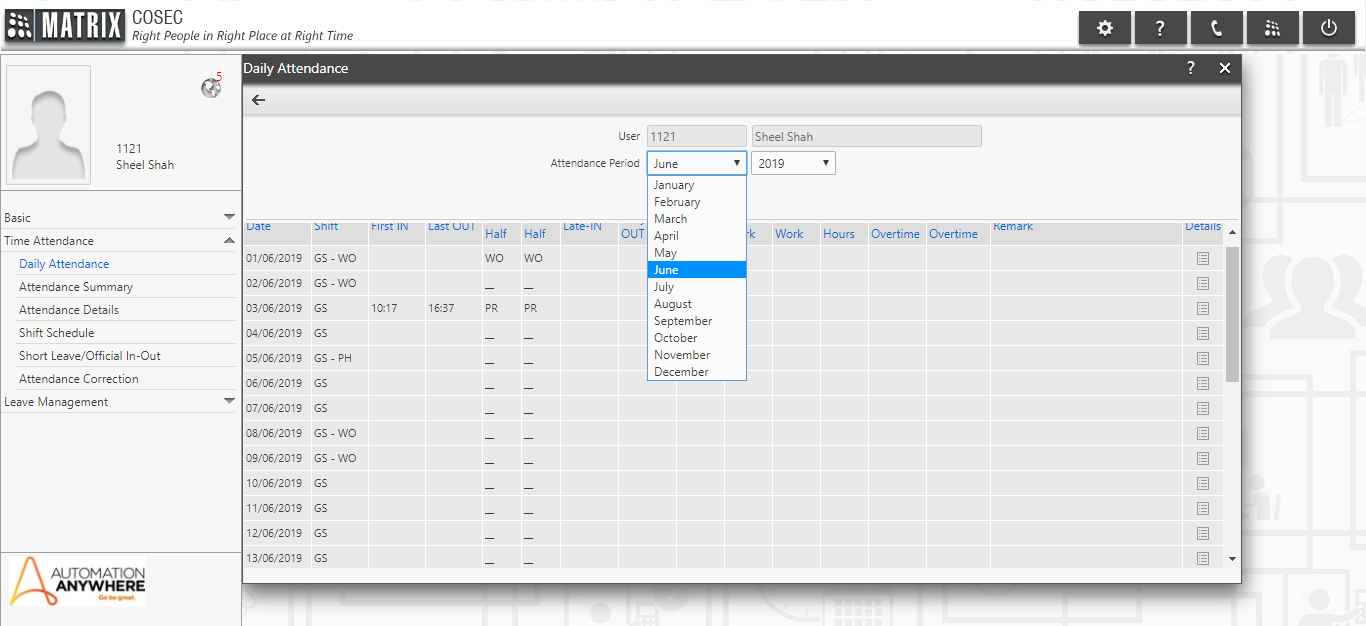COMBOBOX: (646, 148, 749, 176), (750, 149, 837, 175)
DROPDOWN_HANDLE: (724, 148, 748, 174), (812, 150, 838, 174)
IMAGEBUTTON: (1078, 9, 1132, 45), (1134, 9, 1188, 45), (1190, 9, 1244, 45), (1246, 9, 1300, 45), (1302, 9, 1356, 45), (1211, 54, 1243, 83), (1173, 54, 1205, 83)
LISTBOX: (645, 147, 745, 379)
SCROLLBAR_VERTICAL: (1223, 220, 1242, 570)
SCROLLBAR_VERTICAL_BAR: (1224, 245, 1241, 381)
SCROLLBAR_VERTICAL_HANDLE_DOWN: (1223, 545, 1241, 571)
SCROLLBAR_VERTICAL_HANDLE_UP: (1224, 220, 1240, 246)
TEXTBOX: (751, 123, 983, 148), (646, 123, 748, 148)
